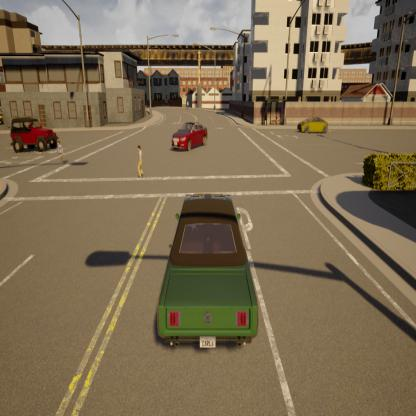Cars: (149, 183, 263, 357), (164, 112, 212, 160), (5, 115, 59, 151), (298, 113, 334, 140)
Pedestrian: (133, 141, 145, 181), (55, 138, 66, 167)
